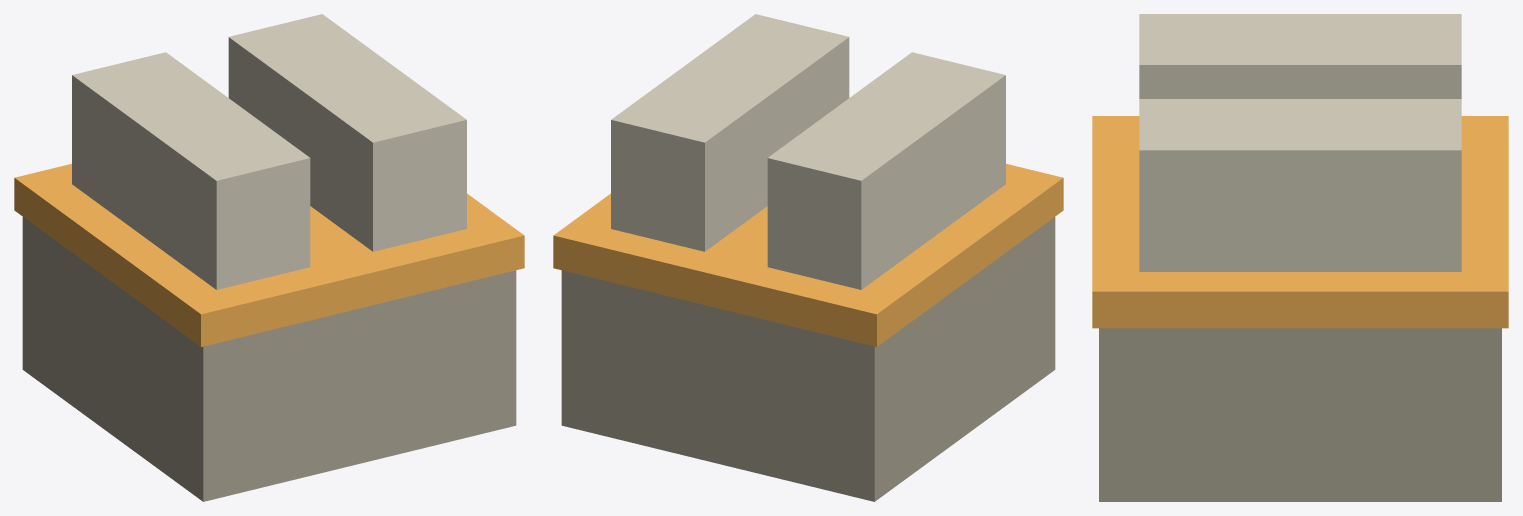
Rendered from Supply_Can.glb.
3 views of the same model, side by side, from view 1: azimuth 30°, elevation 25°; view 2: azimuth 150°, elevation 25°; view 3: azimuth 270°, elevation 25° (orthographic). The views are drawn at different scales.
Size of the model in its own units: 0.62 by 0.55 by 0.62.
